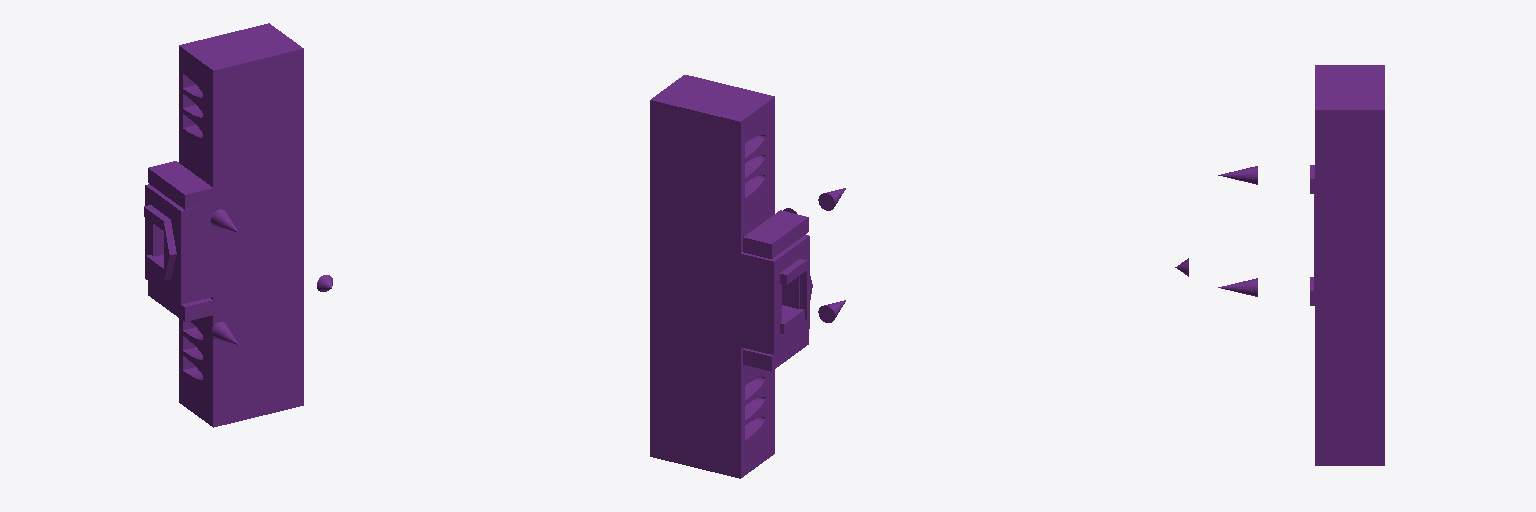
Rendered from powell1_.obj.
3 renders of one model, left to right at view 1: azimuth 30°, elevation 25°; view 2: azimuth 150°, elevation 25°; view 3: azimuth 270°, elevation 25°, orthographic.
Parts seen in each view (by area): view 1: obj_0; view 2: obj_0; view 3: obj_0.
Boxes of the visible parts, box(x1,y1,x2,y2) form: obj_0: box(144, 23, 332, 427); obj_0: box(650, 75, 845, 478); obj_0: box(1175, 65, 1384, 465).
Size of the model in its own units: 55 by 143 by 76.